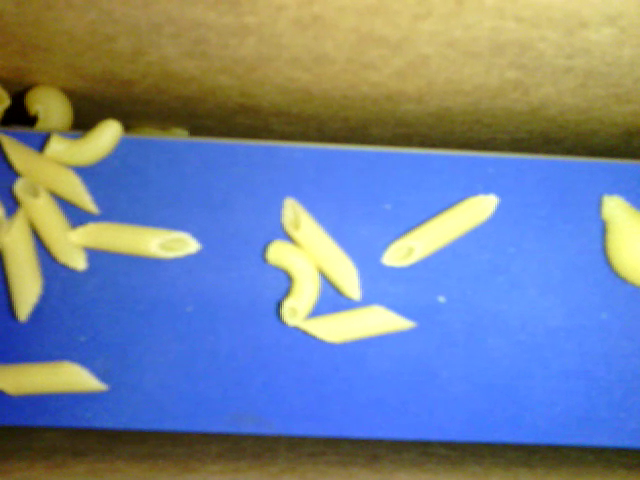elbow: (263, 239, 323, 328), (43, 116, 121, 166)
penne: (380, 192, 500, 270), (280, 195, 361, 303), (1, 132, 104, 215), (9, 173, 86, 270), (298, 300, 418, 345), (64, 221, 209, 258), (2, 206, 45, 324), (1, 357, 112, 394)
shell: (601, 194, 639, 288)
